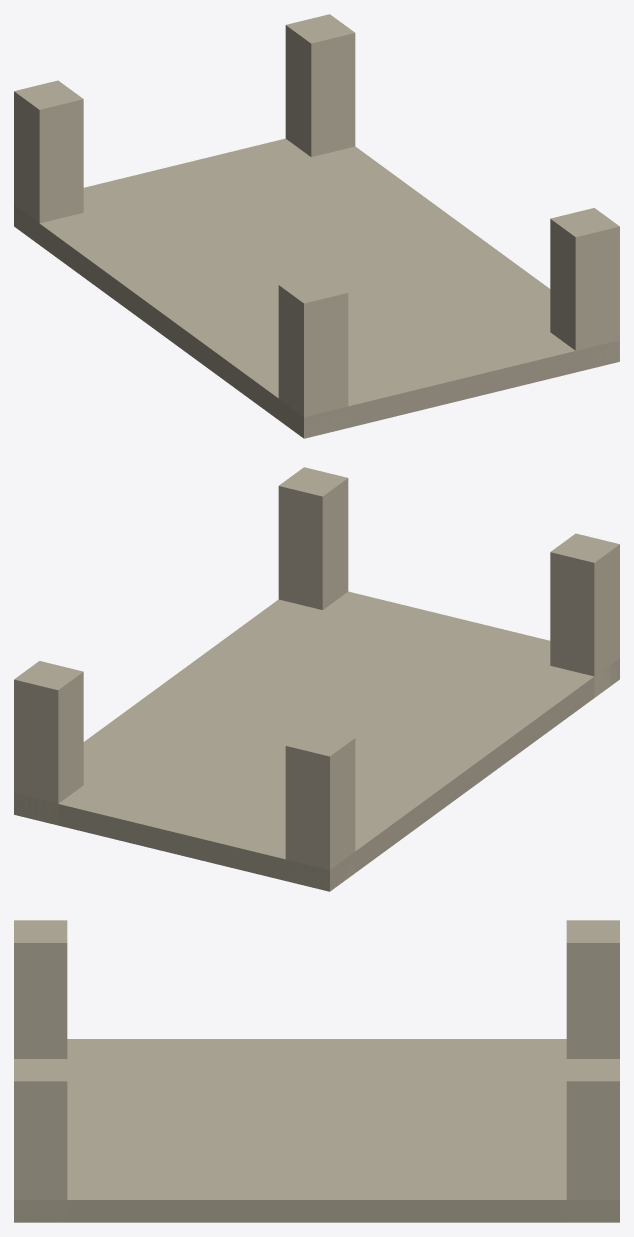
File: gantry_hull_flatbed.glb
3 renders of one model, top to bottom at view 1: azimuth 30°, elevation 25°; view 2: azimuth 150°, elevation 25°; view 3: azimuth 270°, elevation 25°, orthographic. The views are drawn at different scales.
Parts seen in each view (by area): view 1: gantry_hull_flatbed; view 2: gantry_hull_flatbed; view 3: gantry_hull_flatbed.
Part boxes in pixels (x1=…): gantry_hull_flatbed: x1=14, y1=14, x2=619, y2=438; gantry_hull_flatbed: x1=14, y1=467, x2=619, y2=891; gantry_hull_flatbed: x1=14, y1=920, x2=619, y2=1222.
Size of the model in its own units: 4.4 by 1.8 by 7.
